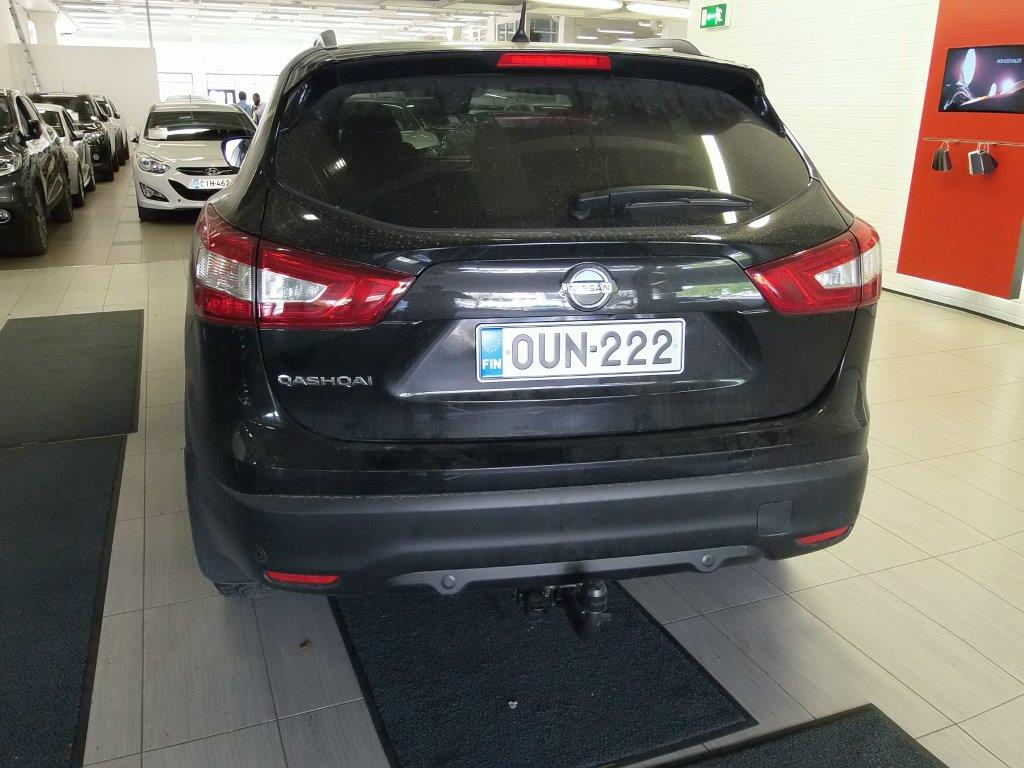license: (473, 313, 683, 388)
